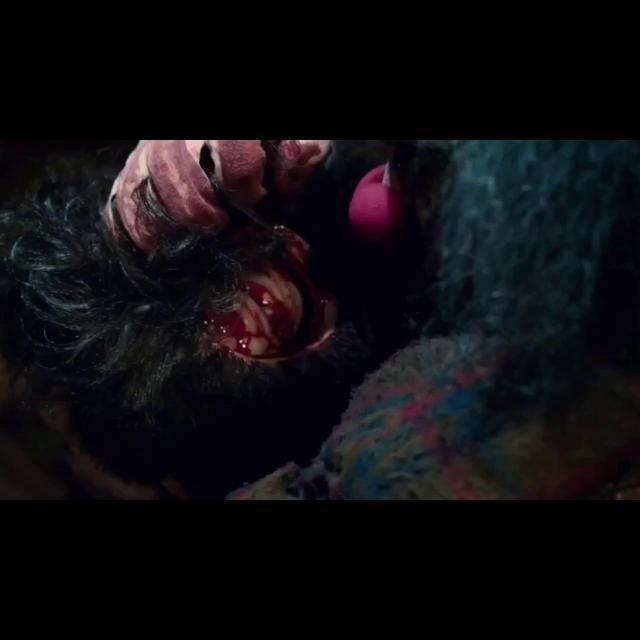blood: (204, 270, 298, 358), (286, 234, 304, 256), (316, 300, 328, 324)
